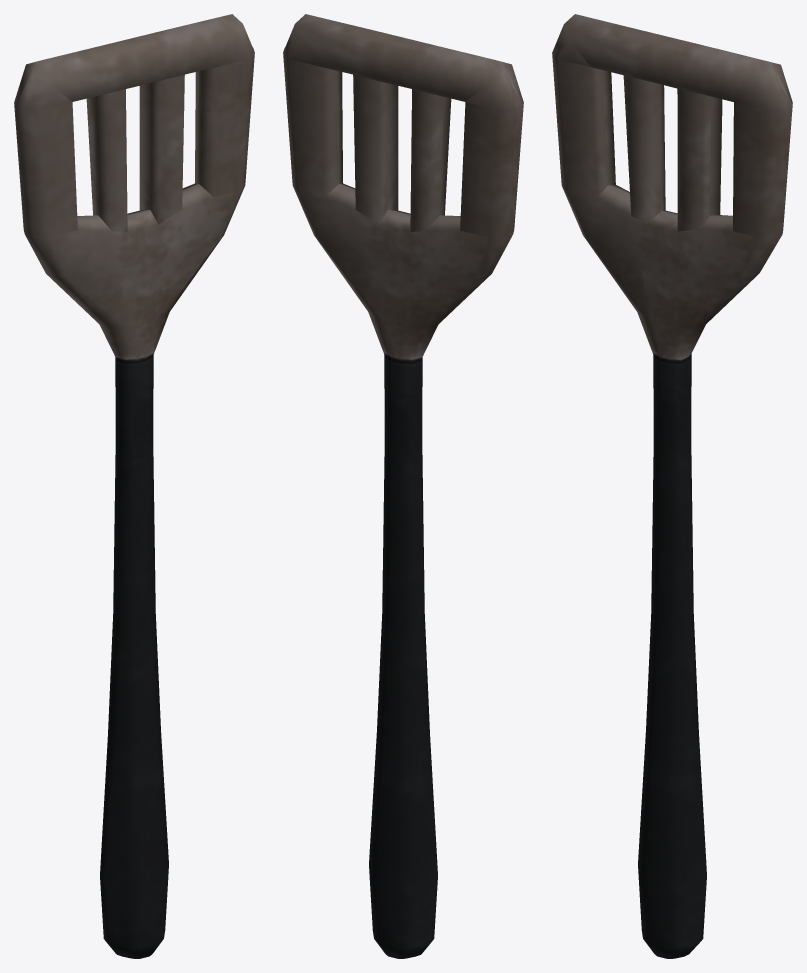
Rendered from Spatula_Holes.fbx.
3 views of the same model, side by side, from view 1: azimuth 30°, elevation 25°; view 2: azimuth 150°, elevation 25°; view 3: azimuth 330°, elevation 25° (orthographic).
Parts seen in each view (by area): view 1: Spatula_type6; view 2: Spatula_type6; view 3: Spatula_type6.
Boxes of the visible parts, bbox=[...] form: Spatula_type6: bbox=[14, 14, 254, 958]; Spatula_type6: bbox=[283, 14, 523, 958]; Spatula_type6: bbox=[552, 14, 792, 958].
Size of the model in its own units: 3.36 by 12.31 by 0.8232.
